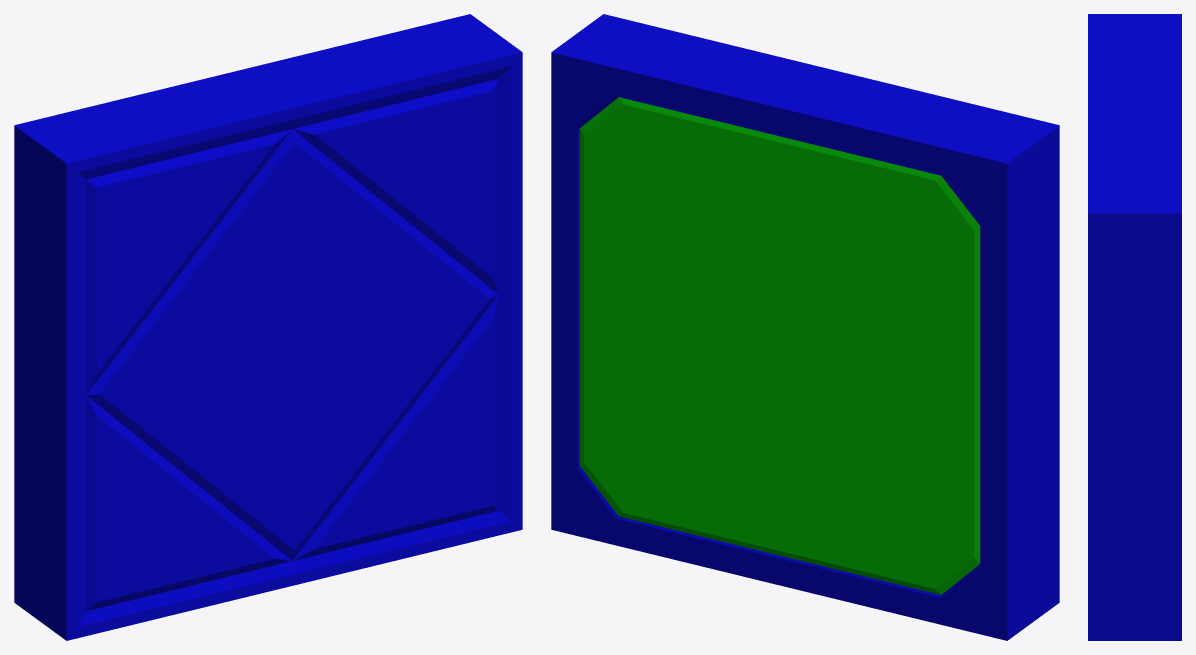
File: MeDalleSolPlafond.FBX
The picture shows the model from 3 angles, left to right: view 1: azimuth 30°, elevation 25°; view 2: azimuth 150°, elevation 25°; view 3: azimuth 270°, elevation 25°; orthographic projection. The views are drawn at different scales.
Parts seen in each view (by area): view 1: Dalle; view 2: Dalle; view 3: Dalle.
Part boxes in pixels (<box>): Dalle: <box>14,14,522,640</box>; Dalle: <box>551,14,1059,640</box>; Dalle: <box>1088,14,1181,640</box>.
Bounding box in the file's own units: 150 × 150 × 29.86.
